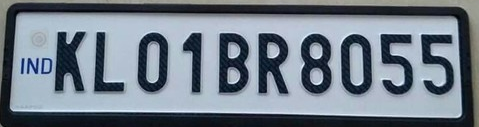0: (339, 32, 375, 97), (136, 31, 171, 93)
1: (180, 30, 210, 97)
5: (377, 31, 416, 97), (419, 30, 455, 98)
8: (299, 32, 333, 95)
B: (217, 31, 252, 96)
K: (53, 28, 90, 95)
L: (93, 28, 126, 95)
R: (256, 32, 292, 95)
